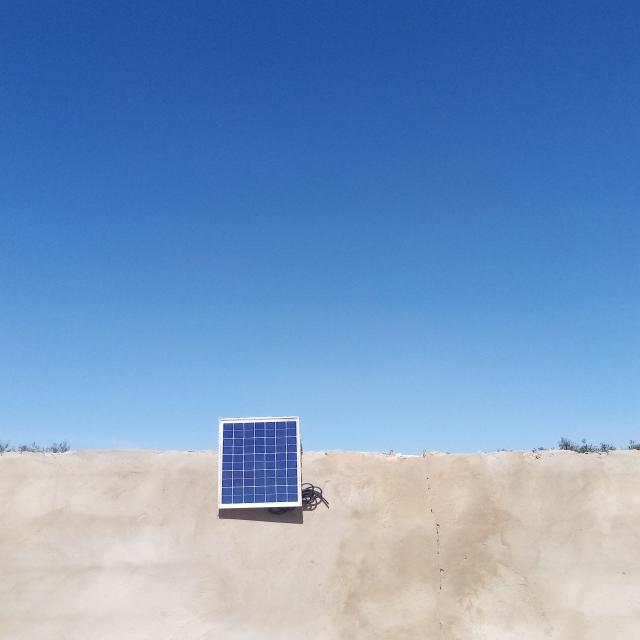no faulty: (219, 417, 300, 508)
